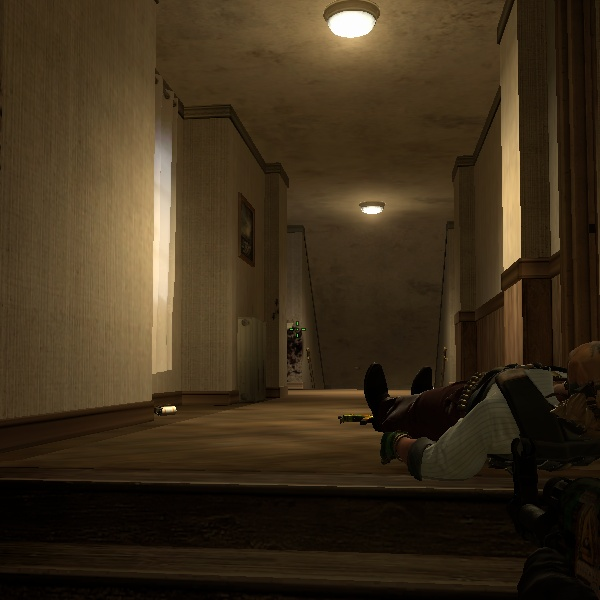t_body: (282, 319, 307, 369)
